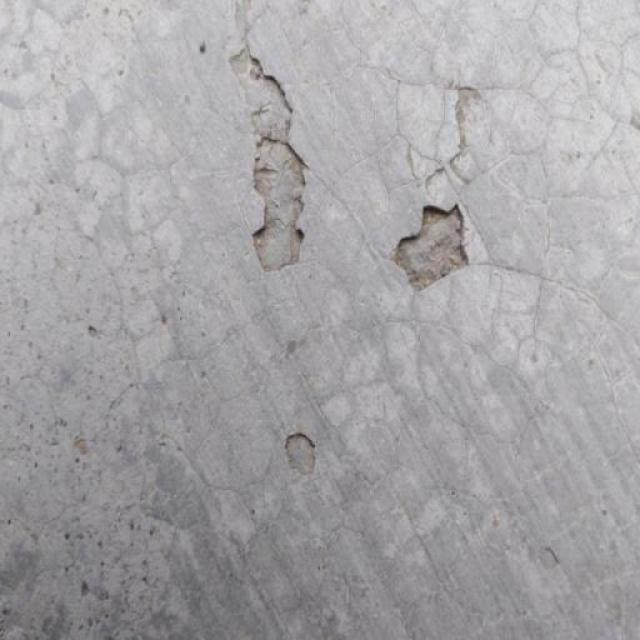D10: (230, 39, 306, 274), (391, 205, 471, 292), (279, 429, 319, 481)
